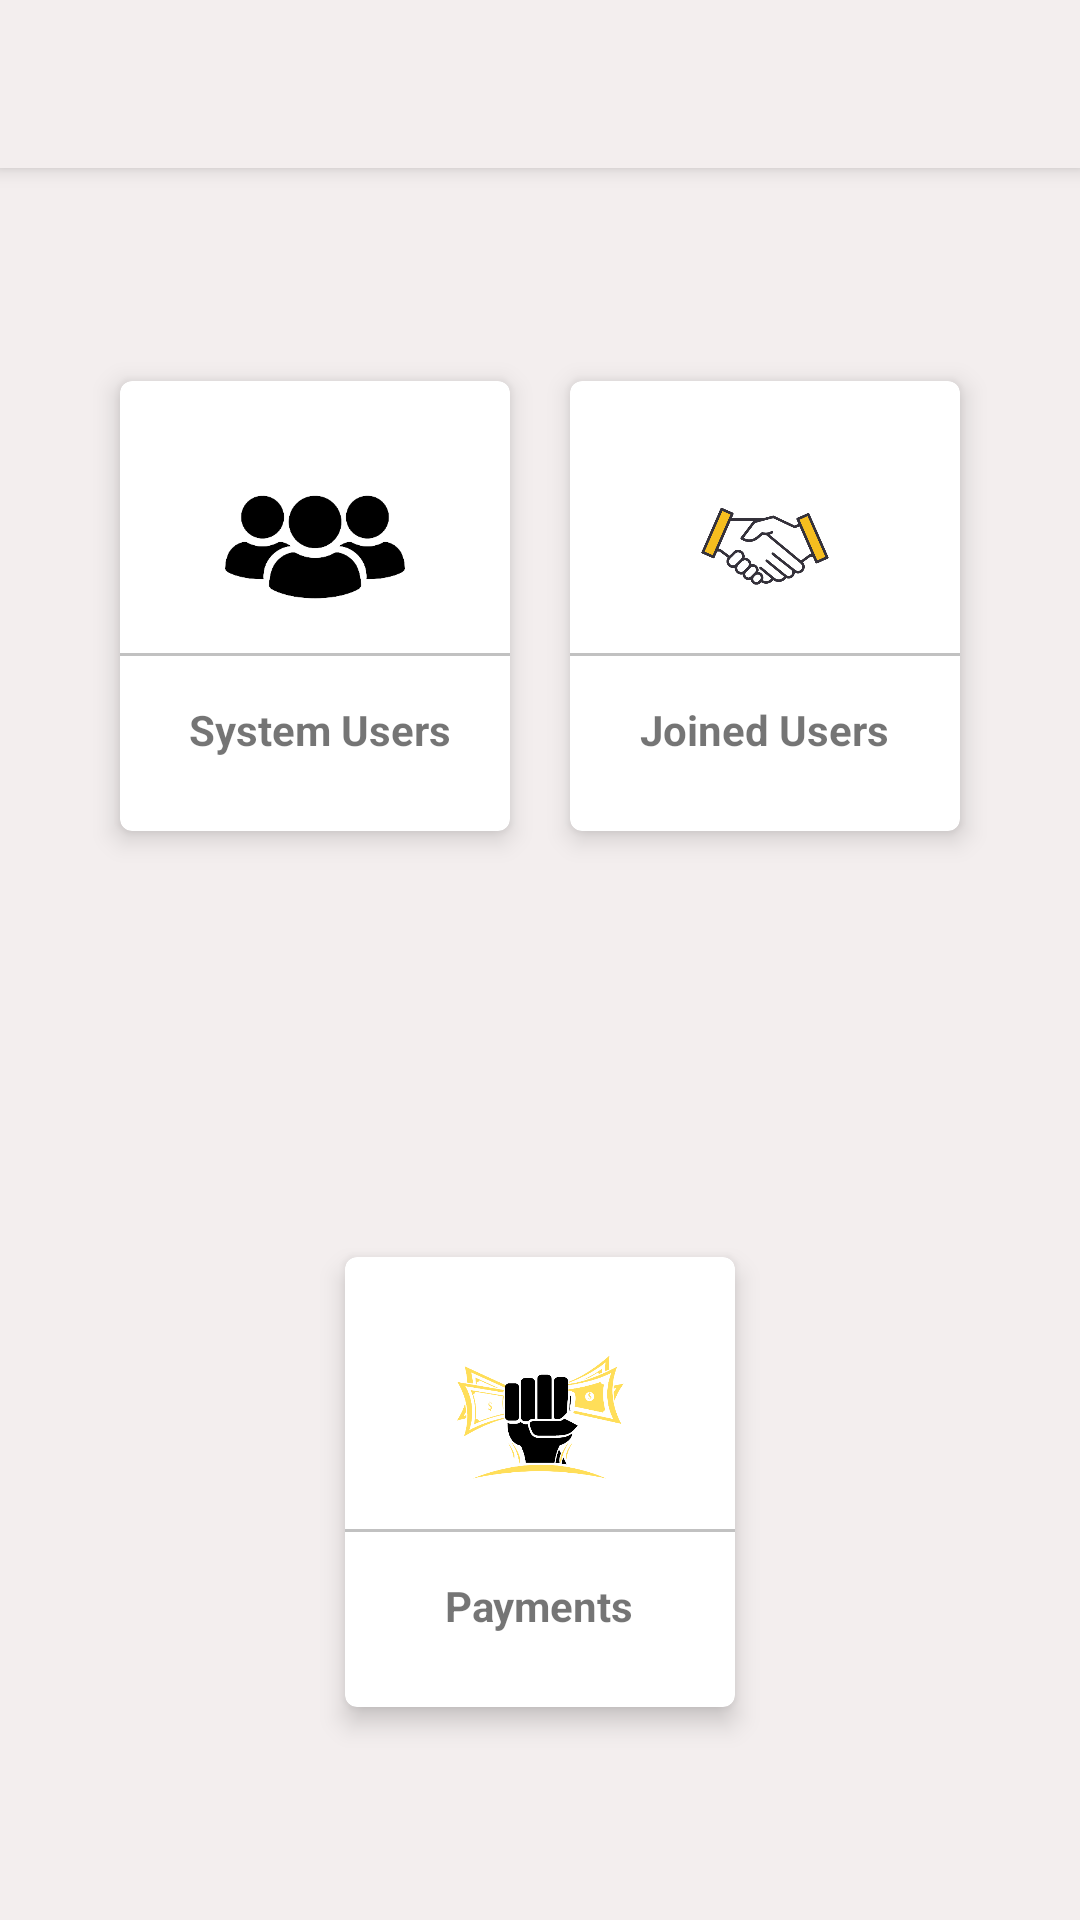

Point at icon controls on the screen. Image size 1080px×1920px, points as (x=x, y=y).
pay: (x=540, y=1417)
